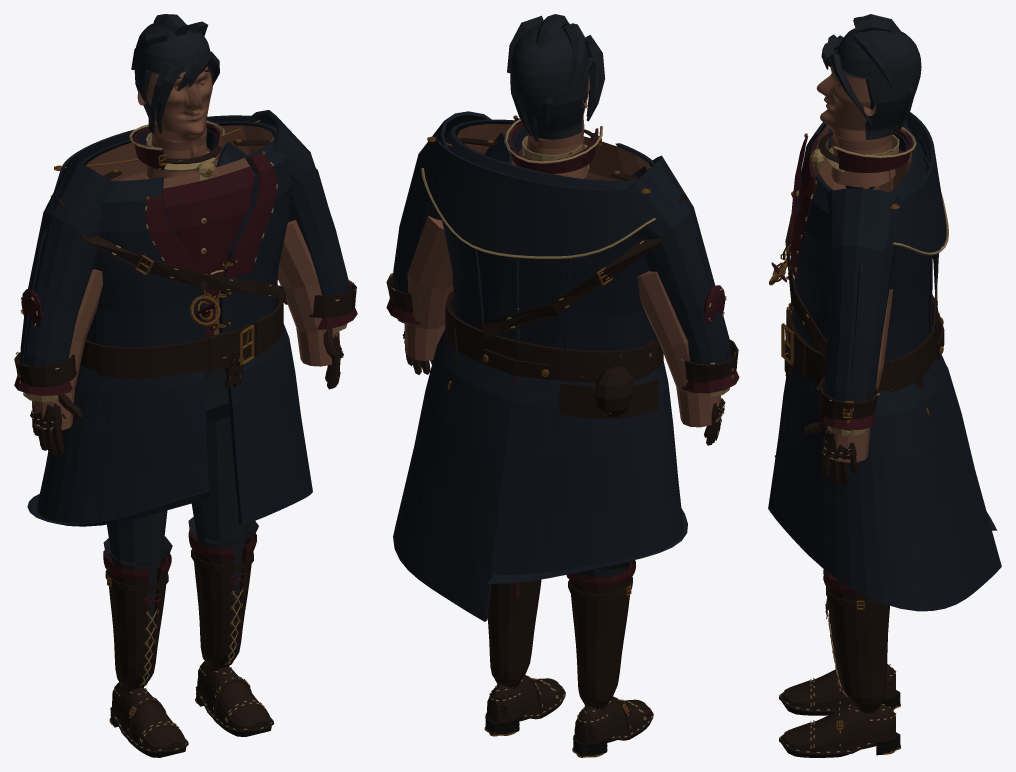
File: SM_Character_VeilboundWayfarer_L1.obj
The picture shows the model from 3 angles, left to right: view 1: azimuth 30°, elevation 25°; view 2: azimuth 150°, elevation 25°; view 3: azimuth 270°, elevation 25°; orthographic projection. The views are drawn at different scales.
Parts seen in each view (by area): view 1: SM_Character_VeilboundWayfarer; view 2: SM_Character_VeilboundWayfarer; view 3: SM_Character_VeilboundWayfarer.
Boxes of the visible parts, bbox=[...] form: SM_Character_VeilboundWayfarer: bbox=[14, 14, 357, 757]; SM_Character_VeilboundWayfarer: bbox=[386, 14, 739, 757]; SM_Character_VeilboundWayfarer: bbox=[768, 14, 1001, 757].
Size of the model in its own units: 0.9293 by 1.85 by 0.5515.
